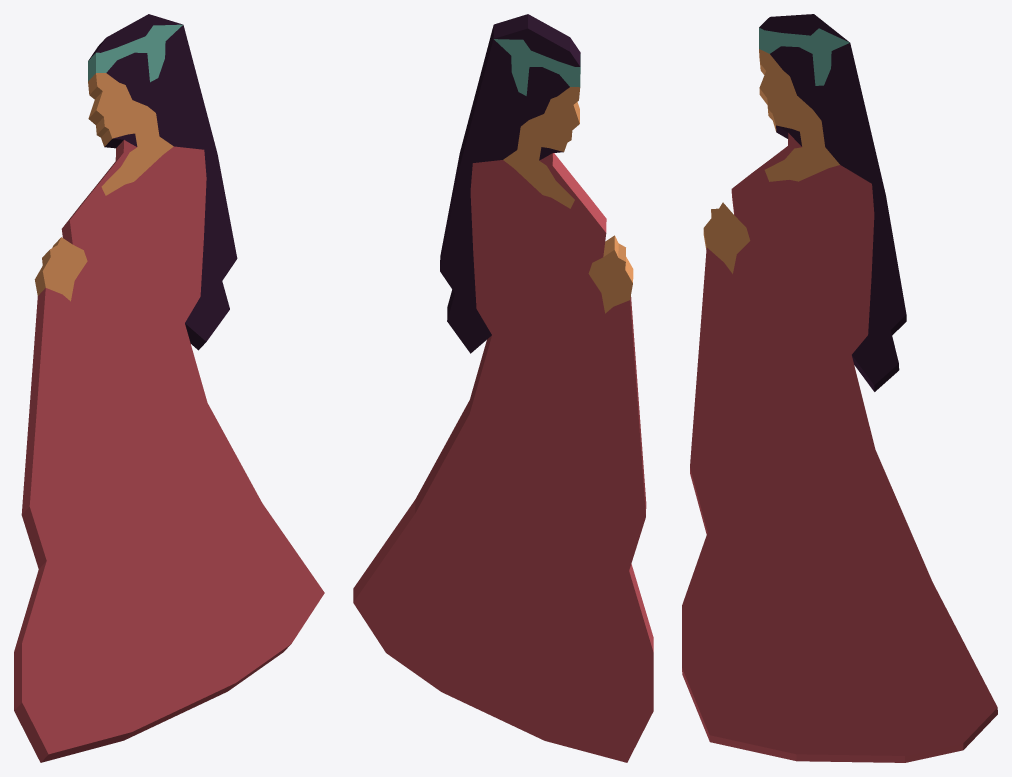
File: Queen.glb
3 renders of one model, left to right at view 1: azimuth 30°, elevation 25°; view 2: azimuth 150°, elevation 25°; view 3: azimuth 330°, elevation 25°, orthographic. The views are drawn at different scales.
Parts seen in each view (by area): view 1: Plane; view 2: Plane; view 3: Plane.
Boxes of the visible parts, x1,y1,x2,y2 form: Plane: (14,14,324,762); Plane: (353,14,653,762); Plane: (682,14,997,762).
Size of the model in its own units: 2.4 by 5.44 by 0.0559.
